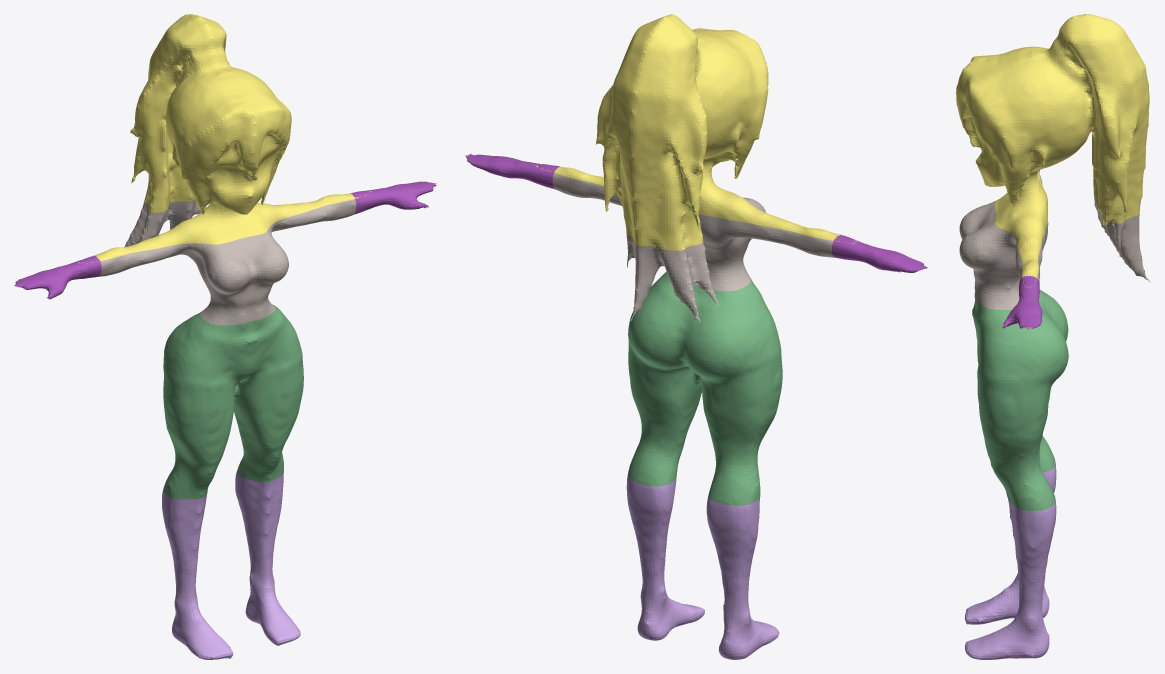
The model's file is jace0_final_segmented_capped.glb.
3 renders of one model, left to right at view 1: azimuth 30°, elevation 25°; view 2: azimuth 150°, elevation 25°; view 3: azimuth 270°, elevation 25°, orthographic. The views are drawn at different scales.
Visible parts, largest first — view 1: Part_HEAD, Part_LEG_UPPER_L, Part_TORSO, Part_LEG_UPPER_R, Part_LEG_LOWER_R, Part_LEG_LOWER_L, Part_ARM_UPPER_L, Part_ARM_UPPER_R; view 2: Part_HEAD, Part_LEG_UPPER_L, Part_LEG_UPPER_R, Part_TORSO, Part_LEG_LOWER_L, Part_LEG_LOWER_R, Part_ARM_UPPER_L, Part_ARM_UPPER_R; view 3: Part_HEAD, Part_LEG_UPPER_R, Part_TORSO, Part_LEG_LOWER_R, Part_LEG_LOWER_L, Part_ARM_UPPER_R, Part_LEG_UPPER_L.
Part boxes in pixels (<box>): Part_HEAD: <box>78,14,371,263</box>; Part_LEG_UPPER_L: <box>163,312,251,499</box>; Part_TORSO: <box>99,199,356,325</box>; Part_LEG_UPPER_R: <box>234,304,303,482</box>; Part_LEG_LOWER_R: <box>235,472,300,645</box>; Part_LEG_LOWER_L: <box>162,491,233,659</box>; Part_ARM_UPPER_L: <box>14,255,101,299</box>; Part_ARM_UPPER_R: <box>351,181,436,214</box>; Part_HEAD: <box>535,14,856,250</box>; Part_LEG_UPPER_L: <box>681,279,782,505</box>; Part_LEG_UPPER_R: <box>628,272,701,486</box>; Part_TORSO: <box>552,173,834,321</box>; Part_LEG_LOWER_L: <box>706,496,779,659</box>; Part_LEG_LOWER_R: <box>626,475,704,640</box>; Part_ARM_UPPER_L: <box>832,234,927,272</box>; Part_ARM_UPPER_R: <box>466,153,559,189</box>; Part_HEAD: <box>956,14,1149,288</box>; Part_LEG_UPPER_R: <box>972,297,1068,510</box>; Part_TORSO: <box>959,170,1150,309</box>; Part_LEG_LOWER_R: <box>965,500,1056,659</box>; Part_LEG_LOWER_L: <box>965,464,1056,624</box>; Part_ARM_UPPER_R: <box>1001,276,1042,328</box>; Part_LEG_UPPER_L: <box>972,289,1068,472</box>.
Bounding box in the file's own units: 1.46 × 1.96 × 0.5555.
